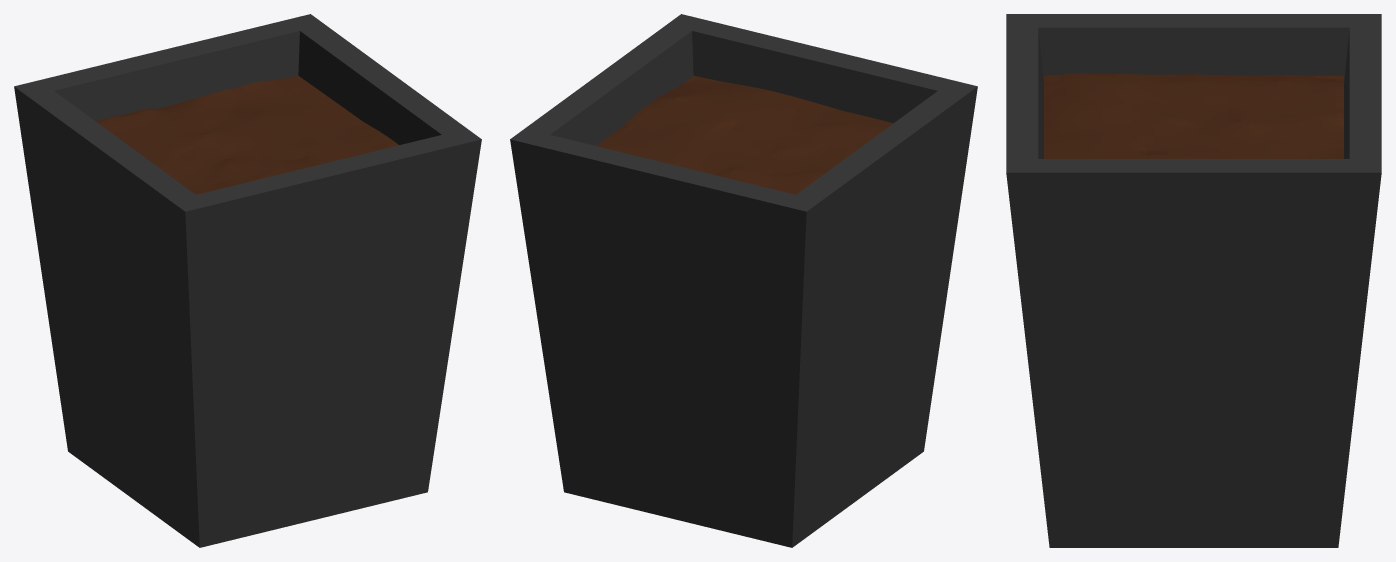
File: pot.fbx
3 renders of one model, left to right at view 1: azimuth 30°, elevation 25°; view 2: azimuth 150°, elevation 25°; view 3: azimuth 270°, elevation 25°, orthographic. The views are drawn at different scales.
Visible parts, largest first — view 1: pot, dirt; view 2: pot, dirt; view 3: pot, dirt.
Boxes of the visible parts, x1,y1,x2,y2 form: pot: (14,14,481,547); dirt: (95,75,398,194); pot: (510,14,977,547); dirt: (596,75,892,194); pot: (1006,14,1381,547); dirt: (1044,73,1343,158).
Bounding box in the file's own units: 56.22 × 65.02 × 56.22.
